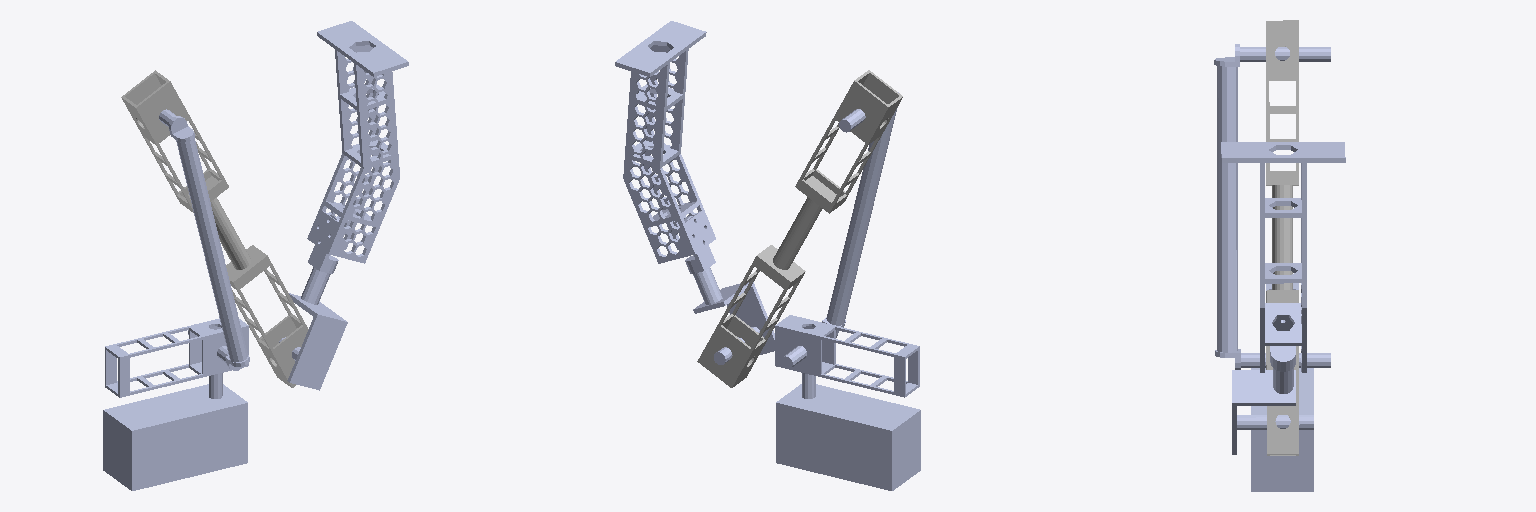
URDF robot description (Beo_Arm_M4):
<?xml version="1.0" encoding="utf-8"?>
<!-- This URDF was automatically created by SolidWorks to URDF Exporter! Originally created by [author] ([email redacted]) 
     Commit Version: 1.6.0-1-g15f4949  Build Version: 1.6.7594.29634
     For more information, please see http://wiki.ros.org/sw_urdf_exporter -->
<robot
  name="Beo_Arm_M4">
  <link
    name="link_1">
    <inertial>
      <origin
        xyz="-0.0385731163984192 -2.28362687350156E-18 -0.00524859501374039"
        rpy="0 0 0" />
      <mass
        value="0.323605809581169" />
      <inertia
        ixx="0.000161147613159255"
        ixy="7.52991643291585E-22"
        ixz="-8.44321479741366E-06"
        iyy="0.000450631135476571"
        iyz="-4.38639332559304E-21"
        izz="0.000418295360654488" />
    </inertial>
    <visual>
      <origin
        xyz="0 0 0"
        rpy="0 0 0" />
      <geometry>
        <mesh
          filename="package://Beo_Arm_M4/meshes/link_1.STL" />
      </geometry>
      <material
        name="">
        <color
          rgba="0.792156862745098 0.819607843137255 0.933333333333333 1" />
      </material>
    </visual>
    <collision>
      <origin
        xyz="0 0 0"
        rpy="0 0 0" />
      <geometry>
        <mesh
          filename="package://Beo_Arm_M4/meshes/link_1.STL" />
      </geometry>
    </collision>
  </link>
  <link
    name="link_2">
    <inertial>
      <origin
        xyz="-0.0227815027756187 -4.6281880237975E-17 0.019"
        rpy="0 0 0" />
      <mass
        value="0.0178646986447077" />
      <inertia
        ixx="5.52910048182243E-06"
        ixy="-3.25578289100872E-21"
        ixz="1.47722568095917E-20"
        iyy="3.44196286692543E-05"
        iyz="-1.77152884664489E-21"
        izz="3.24160176753154E-05" />
    </inertial>
    <visual>
      <origin
        xyz="0 0 0"
        rpy="0 0 0" />
      <geometry>
        <mesh
          filename="package://Beo_Arm_M4/meshes/link_2.STL" />
      </geometry>
      <material
        name="">
        <color
          rgba="0.792156862745098 0.819607843137255 0.933333333333333 1" />
      </material>
    </visual>
    <collision>
      <origin
        xyz="0 0 0"
        rpy="0 0 0" />
      <geometry>
        <mesh
          filename="package://Beo_Arm_M4/meshes/link_2.STL" />
      </geometry>
    </collision>
  </link>
  <joint
    name="joint_1"
    type="continuous">
    <origin
      xyz="0 0 0.05"
      rpy="0 0 0.0029081091695893" />
    <parent
      link="link_1" />
    <child
      link="link_2" />
    <axis
      xyz="0 0 1" />
  </joint>
  <link
    name="link_3">
    <inertial>
      <origin
        xyz="0.121 -0.0315164899121854 9.0205620750794E-17"
        rpy="0 0 0" />
      <mass
        value="0.0649301185542534" />
      <inertia
        ixx="3.22586635547296E-05"
        ixy="-3.71552987546569E-20"
        ixz="3.32675498756577E-20"
        iyy="0.000476962065829219"
        iyz="1.97993951420693E-20"
        izz="0.000507342791034516" />
    </inertial>
    <visual>
      <origin
        xyz="0 0 0"
        rpy="0 0 0" />
      <geometry>
        <mesh
          filename="package://Beo_Arm_M4/meshes/link_3.STL" />
      </geometry>
      <material
        name="">
        <color
          rgba="0.792156862745098 0.819607843137255 0.933333333333333 1" />
      </material>
    </visual>
    <collision>
      <origin
        xyz="0 0 0"
        rpy="0 0 0" />
      <geometry>
        <mesh
          filename="package://Beo_Arm_M4/meshes/link_3.STL" />
      </geometry>
    </collision>
  </link>
  <joint
    name="joint_2"
    type="continuous">
    <origin
      xyz="0 0 0.019"
      rpy="3.14159265358979 -1.33277945223947 3.14159265358979" />
    <parent
      link="link_2" />
    <child
      link="link_3" />
    <axis
      xyz="0 1 0" />
  </joint>
  <link
    name="link_4">
    <inertial>
      <origin
        xyz="6.81676937119846E-14 -1.21539063535625E-16 0.14258"
        rpy="0 0 0" />
      <mass
        value="0.0575915155354546" />
      <inertia
        ixx="8.44653798915303E-05"
        ixy="-8.470329472543E-21"
        ixz="-3.45093709293554E-17"
        iyy="8.87747106609762E-05"
        iyz="-1.88646810498843E-19"
        izz="1.22592484459502E-05" />
    </inertial>
    <visual>
      <origin
        xyz="0 0 0"
        rpy="0 0 0" />
      <geometry>
        <mesh
          filename="package://Beo_Arm_M4/meshes/link_4.STL" />
      </geometry>
      <material
        name="">
        <color
          rgba="0.752941176470588 0.752941176470588 0.752941176470588 1" />
      </material>
    </visual>
    <collision>
      <origin
        xyz="0 0 0"
        rpy="0 0 0" />
      <geometry>
        <mesh
          filename="package://Beo_Arm_M4/meshes/link_4.STL" />
      </geometry>
    </collision>
  </link>
  <joint
    name="joint_3"
    type="continuous">
    <origin
      xyz="0.242 0 0"
      rpy="-3.14159265358979 1.33415282254542 0" />
    <parent
      link="link_3" />
    <child
      link="link_4" />
    <axis
      xyz="0 1 0" />
  </joint>
  <link
    name="link_5">
    <inertial>
      <origin
        xyz="0.0396521859530979 -0.0124327235015845 0.00083405314659353"
        rpy="0 0 0" />
      <mass
        value="0.0347450565910971" />
      <inertia
        ixx="1.31106926757633E-05"
        ixy="-1.02182124980525E-05"
        ixz="-1.75204148380451E-06"
        iyy="4.45647693907995E-05"
        iyz="-3.64347767856079E-07"
        izz="5.41110161491232E-05" />
    </inertial>
    <visual>
      <origin
        xyz="0 0 0"
        rpy="0 0 0" />
      <geometry>
        <mesh
          filename="package://Beo_Arm_M4/meshes/link_5.STL" />
      </geometry>
      <material
        name="">
        <color
          rgba="0.792156862745098 0.819607843137255 0.933333333333333 1" />
      </material>
    </visual>
    <collision>
      <origin
        xyz="0 0 0"
        rpy="0 0 0" />
      <geometry>
        <mesh
          filename="package://Beo_Arm_M4/meshes/link_5.STL" />
      </geometry>
    </collision>
  </link>
  <joint
    name="joint_4"
    type="continuous">
    <origin
      xyz="0 0 0.28516"
      rpy="3.14159265358979 0.647647264330797 0" />
    <parent
      link="link_4" />
    <child
      link="link_5" />
    <axis
      xyz="0 1 0" />
  </joint>
  <link
    name="hand">
    <inertial>
      <origin
        xyz="0.0886274662275076 -8.78203759713259E-18 0.00365476427426814"
        rpy="0 0 0" />
      <mass
        value="0.0570006651942083" />
      <inertia
        ixx="5.60296956427746E-05"
        ixy="1.10564269396288E-19"
        ixz="-6.84651376810428E-05"
        iyy="0.000244454826346669"
        iyz="6.01393392550553E-20"
        izz="0.000227870946005548" />
    </inertial>
    <visual>
      <origin
        xyz="0 0 0"
        rpy="0 0 0" />
      <geometry>
        <mesh
          filename="package://Beo_Arm_M4/meshes/hand.STL" />
      </geometry>
      <material
        name="">
        <color
          rgba="0.792156862745098 0.819607843137255 0.933333333333333 1" />
      </material>
    </visual>
    <collision>
      <origin
        xyz="0 0 0"
        rpy="0 0 0" />
      <geometry>
        <mesh
          filename="package://Beo_Arm_M4/meshes/hand.STL" />
      </geometry>
    </collision>
  </link>
  <joint
    name="joint_5"
    type="fixed">
    <origin
      xyz="0.106 0.000140000000003387 0.014"
      rpy="0 0 0" />
    <parent
      link="link_5" />
    <child
      link="hand" />
    <axis
      xyz="0 0 0" />
  </joint>
</robot>

--- Render facts (derived) ---
3 views of the same robot in one strip: view 1: azimuth 30°, elevation 25°; view 2: azimuth 150°, elevation 25°; view 3: azimuth 270°, elevation 25° (orthographic).
Robot: Beo_Arm_M4 — 6 links, 5 joints (4 continuous, 1 fixed); root link link_1; default pose: every joint at zero.
Links seen in each view (by area): view 1: hand, link_1, link_4, link_3, link_2, link_5; view 2: hand, link_1, link_4, link_2, link_3, link_5; view 3: link_3, hand, link_4, link_5, link_1.
Link boxes in pixels (<box>): hand: <box>307,21,408,263</box>; link_1: <box>103,373,247,490</box>; link_4: <box>121,70,308,387</box>; link_3: <box>159,109,249,370</box>; link_2: <box>105,318,248,397</box>; link_5: <box>279,215,347,390</box>; hand: <box>615,21,715,263</box>; link_1: <box>776,373,920,490</box>; link_4: <box>697,70,902,387</box>; link_2: <box>775,315,919,397</box>; link_3: <box>781,92,898,368</box>; link_5: <box>684,216,774,364</box>; link_3: <box>1214,44,1330,369</box>; hand: <box>1221,142,1345,372</box>; link_4: <box>1266,20,1298,455</box>; link_5: <box>1232,318,1313,454</box>; link_1: <box>1251,368,1313,491</box>.
Size in the robot's own frame: 0.2729 by 0.1015 by 0.3699 metres.
6 mesh visuals loaded from 6 distinct referenced files (6 binary STL).